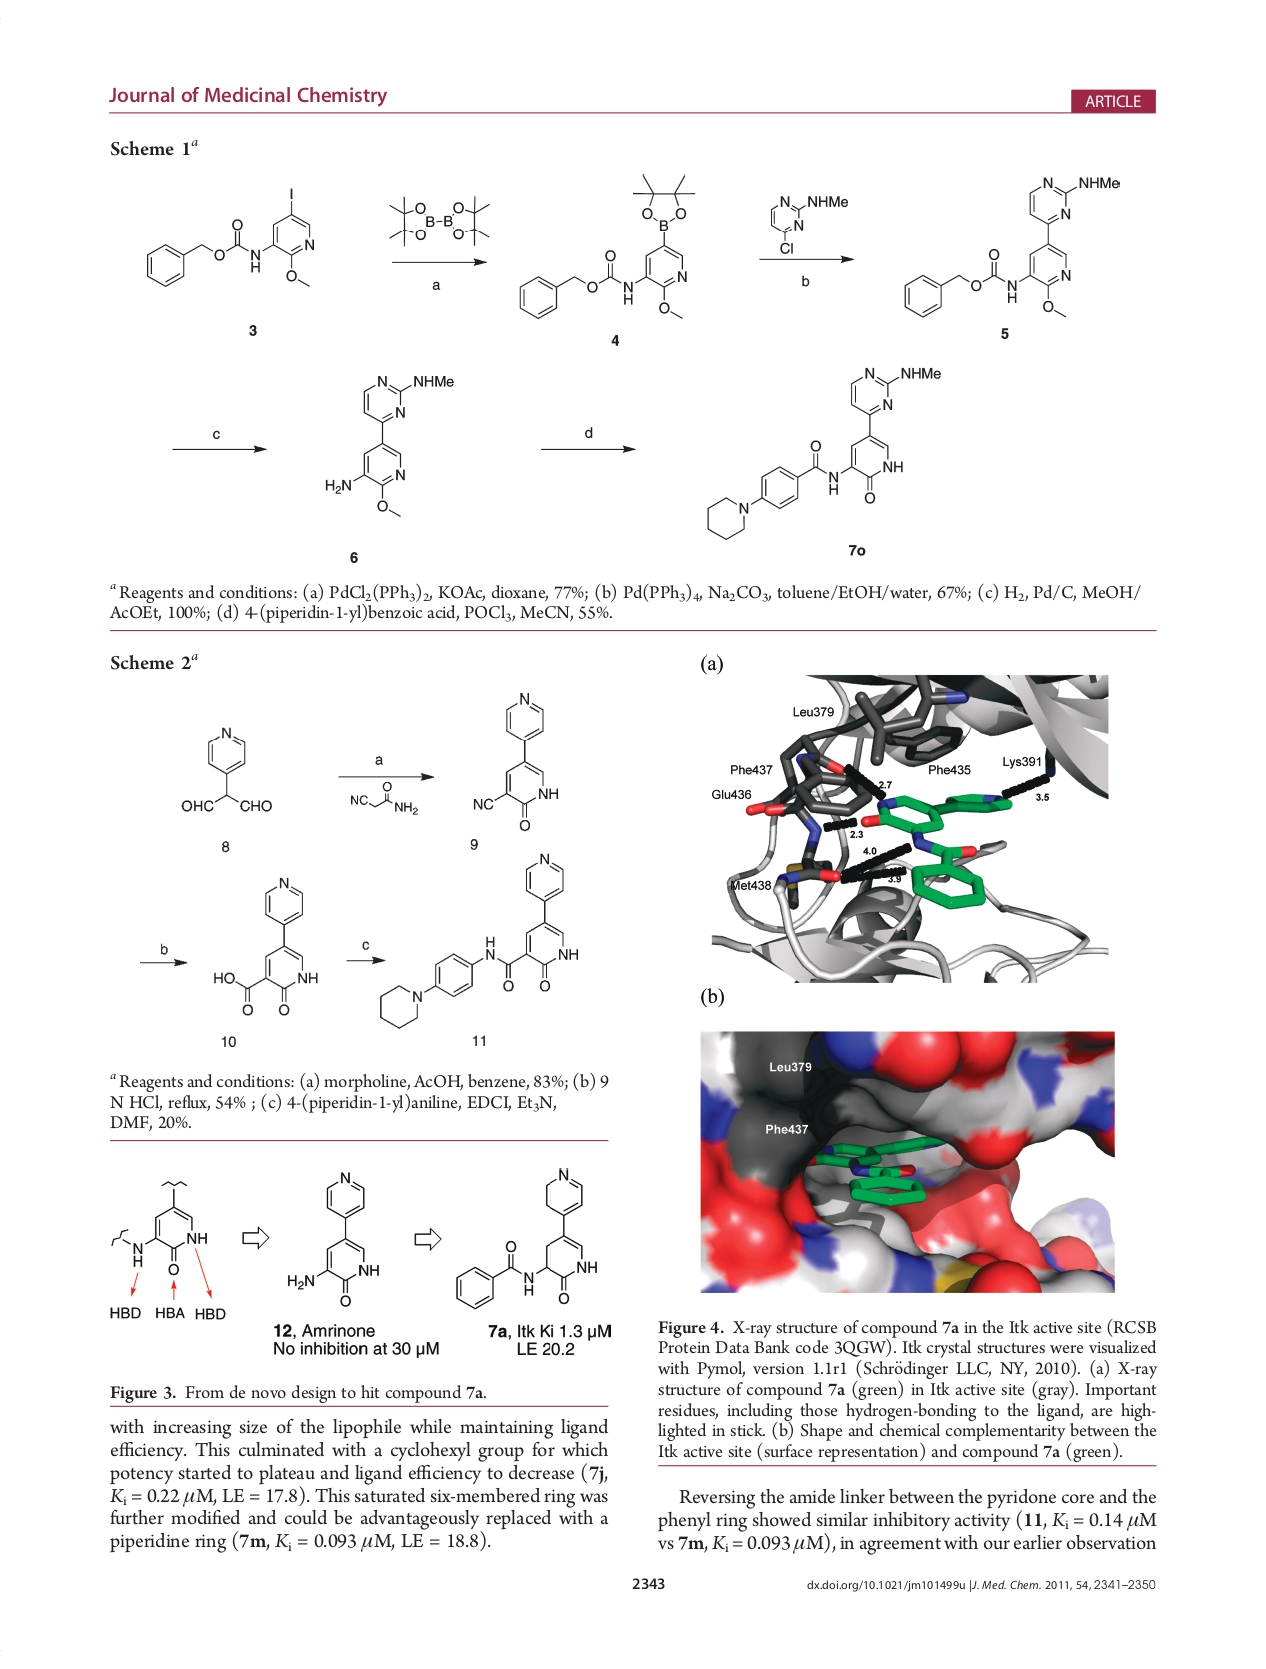exist_molecular: (702, 358, 944, 543), (376, 850, 581, 1031), (898, 172, 1125, 323), (515, 172, 696, 330), (452, 1162, 602, 1313), (316, 366, 457, 525), (140, 186, 322, 301), (209, 868, 324, 1017), (281, 1165, 390, 1313), (465, 688, 559, 834), (166, 715, 279, 822), (106, 1176, 213, 1277), (382, 184, 497, 254), (761, 186, 848, 254), (348, 779, 420, 818)
